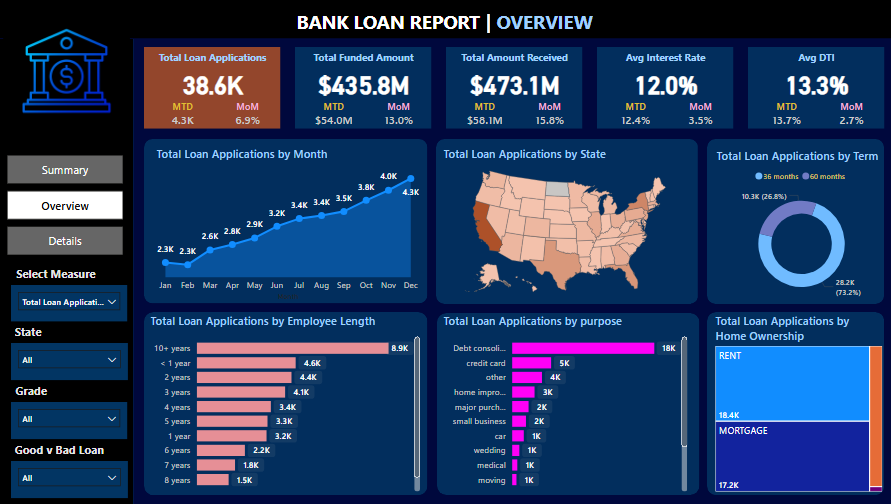

Layout of this report page (visuals, bound fields, positions):
{"tool":"powerbi","page":{"name":"Overview","canvas":[1280,720],"ordinal":1},"visuals":[{"type":"shape","box":[206.7,66.7,195,116.7],"z":0,"group":"g1"},{"type":"shape","box":[422.5,66.7,195,116.7],"z":0,"group":"g2"},{"type":"shape","box":[638.3,66.7,195,116.7],"z":0,"group":"g3"},{"type":"shape","box":[854.2,66.7,195,116.7],"z":0,"group":"g4"},{"type":"shape","box":[1070,66.7,195,116.7],"z":0,"group":"g5"},{"type":"shape","box":[206.7,198.3,405,235],"z":0,"group":"g6"},{"type":"shape","box":[206.7,445,405,261.7],"z":0},{"type":"shape","box":[0,0,1280,55],"z":1000},{"type":"card","fields":{"Values":["bank_loan_data.Total Loan Applications"]},"box":[211.7,91.7,185,53.3],"z":1000,"group":"g1"},{"type":"card","fields":{"Values":["bank_loan_data.Total Funded Amount"]},"box":[427.5,91.7,185,53.3],"z":1000,"group":"g2"},{"type":"card","fields":{"Values":["bank_loan_data.Total Amount Received"]},"box":[643.3,91.7,185,53.3],"z":1000,"group":"g3"},{"type":"card","fields":{"Values":["bank_loan_data.Avg Interest Rate"]},"box":[859.2,91.7,185,53.3],"z":1000,"group":"g4"},{"type":"card","fields":{"Values":["bank_loan_data.Avg DTI"]},"box":[1075,91.7,185,53.3],"z":1000,"group":"g5"},{"type":"shape","box":[0,55,191.7,665],"z":2000},{"type":"textbox","box":[220,66.7,170,38.3],"z":2000,"group":"g1"},{"type":"textbox","box":[435.8,66.7,170,38.3],"z":2000,"group":"g2"},{"type":"textbox","box":[651.6,66.7,170,38.3],"z":2000,"group":"g3"},{"type":"textbox","box":[867.5,66.7,170,38.3],"z":2000,"group":"g4"},{"type":"textbox","box":[1083.3,66.7,170,38.3],"z":2000,"group":"g5"},{"type":"textbox","box":[420,6.7,440,48.3],"z":3000},{"type":"card","title":"MTD","fields":{"Values":["bank_loan_data.MTD Loan Applications"]},"box":[220,141.7,85,45],"z":3000,"group":"g1"},{"type":"card","title":"MTD","fields":{"Values":["bank_loan_data.MTD Funded Applications"]},"box":[435.8,141.7,85,45],"z":3000,"group":"g2"},{"type":"card","title":"MTD","fields":{"Values":["bank_loan_data.MTD Total Amount Received"]},"box":[651.6,141.7,85,45],"z":3000,"group":"g3"},{"type":"card","title":"MTD","fields":{"Values":["bank_loan_data.MTD Avg Interest Rate"]},"box":[867.5,141.7,85,45],"z":3000,"group":"g4"},{"type":"card","title":"MTD","fields":{"Values":["bank_loan_data.MTD Avg DTI"]},"box":[1083.3,141.7,85,45],"z":3000,"group":"g5"},{"type":"group","id":"g1","title":"Group 1","box":[206.7,66.7,195,120],"z":4000},{"type":"card","title":"MoM","fields":{"Values":["bank_loan_data.MoM Loan Applications"]},"box":[311.7,141.7,85,45],"z":4000,"group":"g1"},{"type":"card","title":"MoM","fields":{"Values":["bank_loan_data.MoM Total Funded Amount"]},"box":[527.5,141.7,85,45],"z":4000,"group":"g2"},{"type":"card","title":"MoM","fields":{"Values":["bank_loan_data.MoM Total Amount Received"]},"box":[743.3,141.7,85,45],"z":4000,"group":"g3"},{"type":"card","title":"MoM","fields":{"Values":["bank_loan_data.MoM Avg Interest Rate"]},"box":[959.2,141.7,85,45],"z":4000,"group":"g4"},{"type":"card","title":"MoM","fields":{"Values":["bank_loan_data.MoM Avg DTI"]},"box":[1175,141.7,85,45],"z":4000,"group":"g5"},{"type":"group","id":"g2","title":"Group 1","box":[422.5,66.7,195,120],"z":5000},{"type":"group","id":"g3","title":"Group 1","box":[638.3,66.7,195,120],"z":6000},{"type":"group","id":"g4","title":"Group 1","box":[854.2,66.7,195,120],"z":7000},{"type":"group","id":"g5","title":"Group 1","box":[1070,66.7,195,120],"z":8000},{"type":"group","id":"g6","title":"Group 2","box":[206.7,198.3,405,235.4],"z":9000},{"type":"textbox","box":[16.7,375,128.3,31.7],"z":9000,"group":"g9"},{"type":"slicer","fields":{"Values":["bank_loan_data.grade"]},"box":[16.6,573.9,166.3,53.5],"z":9000,"group":"g10"},{"type":"group","id":"g7","title":"Group 3","box":[624.6,198.1,374.5,235.7],"z":10000},{"type":"textbox","box":[5,458.4,71.7,31.7],"z":10000,"group":"g10"},{"type":"shape","box":[625,446.7,375,260],"z":11000},{"type":"slicer","fields":{"Values":["bank_loan_data.Good vs Bad Loans"]},"box":[16.7,658.4,166.7,53.3],"z":11000,"group":"g10"},{"type":"group","id":"g8","title":"Group 4","box":[1012,198.1,261.6,238.4],"z":12000},{"type":"textbox","box":[11.7,542.6,66.7,31.7],"z":12000,"group":"g10"},{"type":"barChart","fields":{"Y":["bank_loan_data.Total Loan Applications"],"Category":["bank_loan_data.emp_length"]},"box":[211.7,446.7,395,260],"z":13000},{"type":"textbox","box":[16.7,627.1,138.3,31.7],"z":13000,"group":"g10"},{"type":"shape","box":[1011.7,445,253.3,261.7],"z":14000},{"type":"slicer","fields":{"Values":["bank_loan_data.address_state"]},"box":[16.7,489.7,166.7,53.3],"z":14000,"group":"g10"},{"type":"areaChart","fields":{"Y":["bank_loan_data.Total Loan Applications"],"Category":["Date Table.Month"]},"box":[219.8,208.2,386,225.5],"z":15000,"group":"g6"},{"type":"slicer","fields":{"Values":["Select Measure.Select Measure"]},"box":[16.6,406.7,166.3,52],"z":15000,"group":"g10"},{"type":"barChart","fields":{"Y":["bank_loan_data.Total Loan Applications"],"Category":["bank_loan_data.purpose"]},"box":[630,446.7,358.3,260],"z":15000},{"type":"treemap","fields":{"Values":["bank_loan_data.Total Loan Applications"],"Group":["bank_loan_data.home_ownership"]},"box":[1018.3,446.7,248.3,260],"z":16000},{"type":"group","id":"g9","title":"Group 6","box":[5,375,178.3,336.7],"z":17000},{"type":"image","box":[0,7.2,192.3,190.8],"z":18000},{"type":"shape","box":[624.6,198.1,374.5,235.7],"z":18000,"group":"g7"},{"type":"group","id":"g10","title":"Group 5","box":[5,406.7,178.3,305],"z":18000,"group":"g9"},{"type":"shapeMap","fields":{"Value":["bank_loan_data.Total Loan Applications"],"Category":["bank_loan_data.address_state"]},"box":[630.6,208.2,357.9,222.7],"z":19000,"group":"g7"},{"type":"pageNavigator","box":[11.7,221.7,166.7,145],"z":19000},{"type":"shape","box":[1012,198.1,253,235.7],"z":20000,"group":"g8"},{"type":"donutChart","fields":{"Y":["bank_loan_data.Total Loan Applications"],"Category":["bank_loan_data.term"]},"box":[1020.6,211,253,225.5],"z":21000,"group":"g8"}]}

Visuals, with their boxes in screenshot pixels (x1, y1, x2, y2), scaled from the page's 1280x720 canvas onto the 891x504 screenshot:
shape: [144,47,280,128]
shape: [294,47,430,128]
shape: [444,47,580,128]
shape: [595,47,730,128]
shape: [745,47,881,128]
shape: [144,139,426,303]
shape: [144,312,426,495]
shape: [0,0,890,38]
card - bank_loan_data.Total Loan Applications: [147,64,276,102]
card - bank_loan_data.Total Funded Amount: [298,64,426,102]
card - bank_loan_data.Total Amount Received: [448,64,577,102]
card - bank_loan_data.Avg Interest Rate: [598,64,727,102]
card - bank_loan_data.Avg DTI: [748,64,877,102]
shape: [0,38,133,503]
textbox: [153,47,271,74]
textbox: [303,47,422,74]
textbox: [454,47,572,74]
textbox: [604,47,722,74]
textbox: [754,47,872,74]
textbox: [292,5,599,38]
"MTD" card: [153,99,212,131]
"MTD" card: [303,99,363,131]
"MTD" card: [454,99,513,131]
"MTD" card: [604,99,663,131]
"MTD" card: [754,99,813,131]
"Group 1" group: [144,47,280,131]
"MoM" card: [217,99,276,131]
"MoM" card: [367,99,426,131]
"MoM" card: [517,99,577,131]
"MoM" card: [668,99,727,131]
"MoM" card: [818,99,877,131]
"Group 1" group: [294,47,430,131]
"Group 1" group: [444,47,580,131]
"Group 1" group: [595,47,730,131]
"Group 1" group: [745,47,881,131]
"Group 2" group: [144,139,426,304]
textbox: [12,262,101,285]
slicer - bank_loan_data.grade: [12,402,127,439]
"Group 3" group: [435,139,695,304]
textbox: [3,321,53,343]
shape: [435,313,696,495]
slicer - bank_loan_data.Good vs Bad Loans: [12,461,128,498]
"Group 4" group: [704,139,887,306]
textbox: [8,380,55,402]
barChart - bank_loan_data.Total Loan Applications x bank_loan_data.emp_length: [147,313,422,495]
textbox: [12,439,108,461]
shape: [704,312,881,495]
slicer - bank_loan_data.address_state: [12,343,128,380]
areaChart - bank_loan_data.Total Loan Applications x Date Table.Month: [153,146,422,304]
slicer - Select Measure.Select Measure: [12,285,127,321]
barChart - bank_loan_data.Total Loan Applications x bank_loan_data.purpose: [439,313,688,495]
treemap - bank_loan_data.Total Loan Applications x bank_loan_data.home_ownership: [709,313,882,495]
"Group 6" group: [3,262,128,498]
image: [0,5,134,139]
shape: [435,139,695,304]
"Group 5" group: [3,285,128,498]
shapeMap - bank_loan_data.Total Loan Applications x bank_loan_data.address_state: [439,146,688,302]
pageNavigator: [8,155,124,257]
shape: [704,139,881,304]
donutChart - bank_loan_data.Total Loan Applications x bank_loan_data.term: [710,148,887,306]
